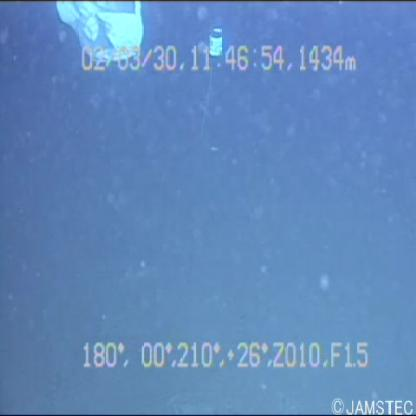Rác: (55, 1, 155, 65)
